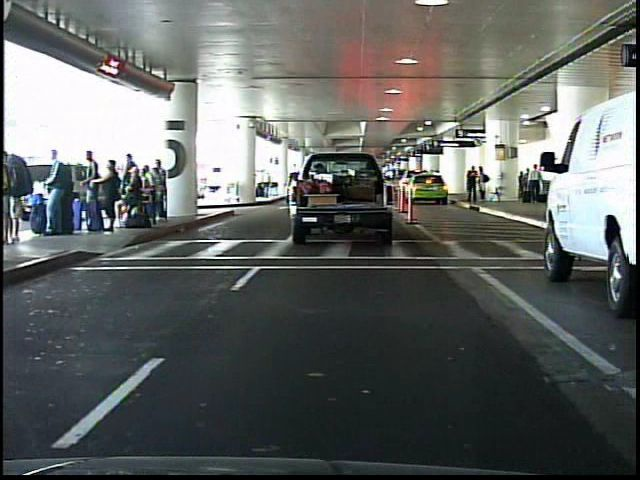person: (476, 165, 490, 203), (465, 165, 478, 204)
